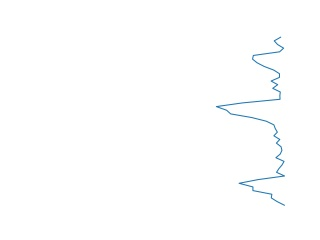underwaterNaturalLevee: (211, 34, 293, 211)
